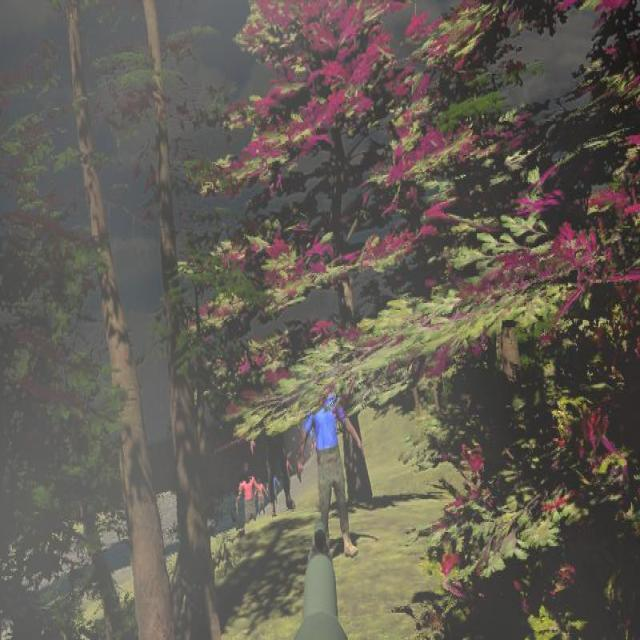Human: (298, 350, 363, 562), (236, 466, 261, 548)
